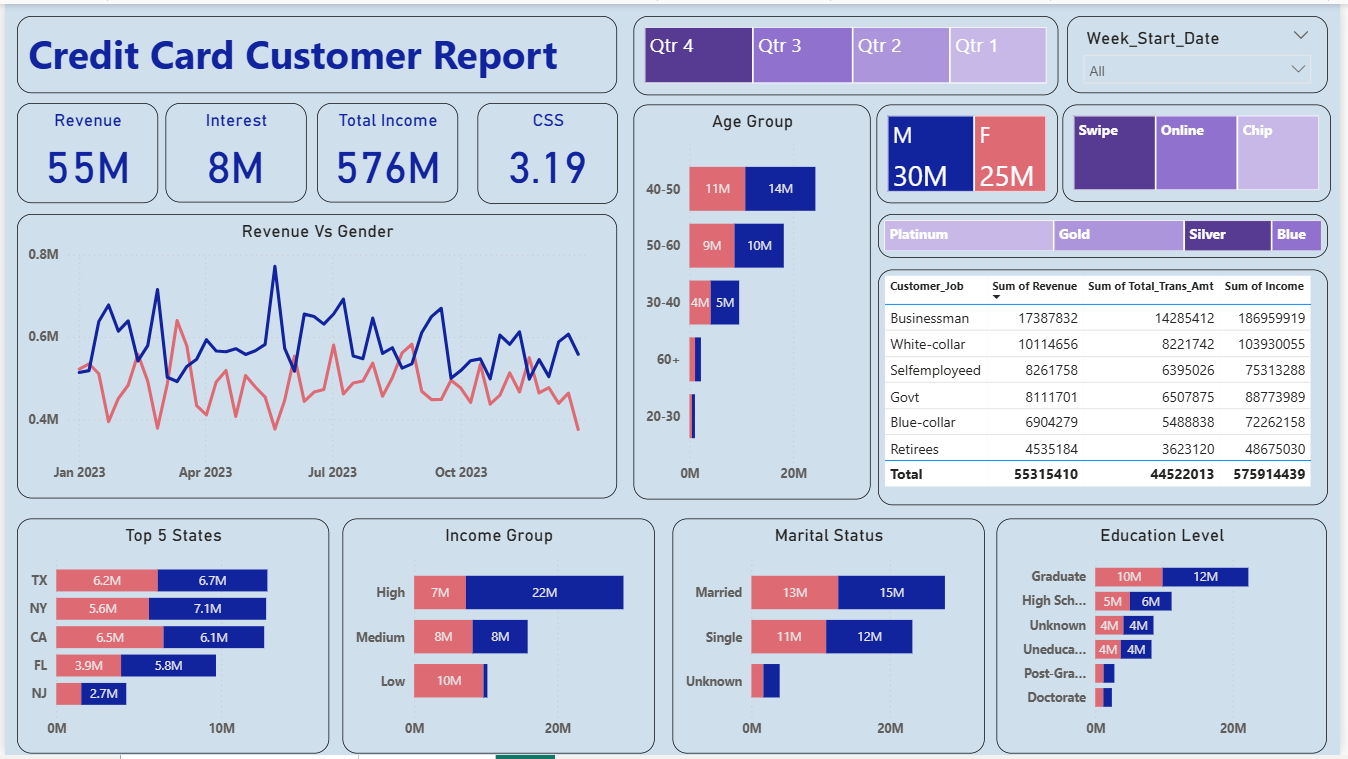

This screenshot's page, from the dashboard's own definition file:
{"tool":"powerbi","page":{"name":"customer","canvas":[1280,720],"ordinal":1},"visuals":[{"type":"textbox","box":[12.1,12.1,575.4,74.2],"z":0},{"type":"card","title":"Revenue","fields":{"Values":["Sum(credit_card cc_detail.Revenue)"]},"box":[12.1,95.4,135,96],"z":1000},{"type":"card","title":"Interest","fields":{"Values":["Sum(credit_card cc_detail.Interest_Earned)"]},"box":[154.4,95.4,135,95.4],"z":2000},{"type":"card","title":"Total Income","fields":{"Values":["Sum(credit_card cust_detail.Income)"]},"box":[299.8,95.4,135,95.4],"z":3000},{"type":"card","title":"CSS","fields":{"Values":["Avg(credit_card cust_detail.Cust_Satisfaction_Score)"]},"box":[452.7,95.4,134.8,96.9],"z":4000},{"type":"treemap","fields":{"Group":["credit_card cc_detail.Week_Start_Date.Variation.Date Hierarchy.Quarter"],"Values":["Avg(credit_card cc_detail.Client_Num)"]},"box":[602.7,12.1,407.3,75.7],"z":5000},{"type":"slicer","fields":{"Values":["credit_card cc_detail.Week_Start_Date"]},"box":[1017.5,12.1,249.8,74.2],"z":6000},{"type":"treemap","fields":{"Group":["credit_card cust_detail.Gender"],"Values":["Sum(credit_card cc_detail.Revenue)"]},"box":[835.8,96.9,174.1,122.7],"z":7000},{"type":"lineChart","title":"Revenue Vs Gender","fields":{"Y":["Sum(credit_card cc_detail.Revenue)"],"Series":["credit_card cust_detail.Gender"],"Category":["credit_card cc_detail.Week_Start_Date.Variation.Date Hierarchy.Year","credit_card cc_detail.Week_Start_Date.Variation.Date Hierarchy.Month","credit_card cc_detail.Week_Start_Date.Variation.Date Hierarchy.Day"]},"box":[12.1,201.4,575.4,272.6],"z":8000},{"type":"tableEx","fields":{"Values":["credit_card cust_detail.Customer_Job","Sum(credit_card cc_detail.Revenue)","Sum(credit_card cc_detail.Total_Trans_Amt)","Sum(credit_card cust_detail.Income)"]},"box":[835.8,234.7,431.5,242.3],"z":9000},{"type":"barChart","title":"Top 5  States","fields":{"Category":["credit_card cust_detail.State_cd"],"Y":["Sum(credit_card cc_detail.Revenue)"],"Series":["credit_card cust_detail.Gender"]},"box":[12.1,493.6,299,225.6],"z":10000},{"type":"barChart","title":"Income Group","fields":{"Category":["credit_card cust_detail.IncomeGroup"],"Y":["Sum(credit_card cc_detail.Revenue)"],"Series":["credit_card cust_detail.Gender"]},"box":[324,493.6,299,225.6],"z":11000},{"type":"barChart","title":"Marital Status","fields":{"Category":["credit_card cust_detail.Marital_Status"],"Y":["Sum(credit_card cc_detail.Revenue)"],"Series":["credit_card cust_detail.Gender"]},"box":[640.5,493.6,299,225.6],"z":12000},{"type":"barChart","title":"Education Level","fields":{"Category":["credit_card cust_detail.Education_Level"],"Y":["Sum(credit_card cc_detail.Revenue)"],"Series":["credit_card cust_detail.Gender"]},"box":[950.9,493.6,316.5,225.6],"z":13000},{"type":"barChart","title":"Age Group","fields":{"Category":["credit_card cust_detail.AgeGroup"],"Y":["Sum(credit_card cc_detail.Revenue)"],"Series":["credit_card cust_detail.Gender"]},"box":[602.7,96.9,227.1,378.6],"z":14000},{"type":"treemap","fields":{"Group":["credit_card cc_detail.Card_Category"],"Values":["Avg(credit_card cc_detail.Revenue)"]},"box":[1017.5,96.9,249.8,62.1],"z":15000},{"type":"treemap","fields":{"Group":["credit_card cc_detail.Use_Chip"],"Values":["Avg(credit_card cc_detail.Client_Num)"]},"box":[1014.5,165,257.4,54.5],"z":16000}]}

Visuals, with their boxes in screenshot pixels (x1, y1, x2, y2), scaled from the page's 1280x720 canvas onto the 1348x759 screenshot:
textbox: {"x1": 13, "y1": 13, "x2": 619, "y2": 91}
"Revenue" card: {"x1": 13, "y1": 101, "x2": 155, "y2": 202}
"Interest" card: {"x1": 163, "y1": 101, "x2": 305, "y2": 201}
"Total Income" card: {"x1": 316, "y1": 101, "x2": 458, "y2": 201}
"CSS" card: {"x1": 477, "y1": 101, "x2": 619, "y2": 203}
treemap - credit_card cc_detail.Week_Start_Date.Variation.Date Hierarchy.Quarter x Avg(credit_card cc_detail.Client_Num): {"x1": 635, "y1": 13, "x2": 1064, "y2": 93}
slicer - credit_card cc_detail.Week_Start_Date: {"x1": 1072, "y1": 13, "x2": 1335, "y2": 91}
treemap - credit_card cust_detail.Gender x Sum(credit_card cc_detail.Revenue): {"x1": 880, "y1": 102, "x2": 1064, "y2": 231}
"Revenue Vs Gender" lineChart: {"x1": 13, "y1": 212, "x2": 619, "y2": 500}
tableEx - credit_card cust_detail.Customer_Job x Sum(credit_card cc_detail.Revenue): {"x1": 880, "y1": 247, "x2": 1335, "y2": 503}
"Top 5  States" barChart: {"x1": 13, "y1": 520, "x2": 328, "y2": 758}
"Income Group" barChart: {"x1": 341, "y1": 520, "x2": 656, "y2": 758}
"Marital Status" barChart: {"x1": 675, "y1": 520, "x2": 989, "y2": 758}
"Education Level" barChart: {"x1": 1001, "y1": 520, "x2": 1335, "y2": 758}
"Age Group" barChart: {"x1": 635, "y1": 102, "x2": 874, "y2": 501}
treemap - credit_card cc_detail.Card_Category x Avg(credit_card cc_detail.Revenue): {"x1": 1072, "y1": 102, "x2": 1335, "y2": 168}
treemap - credit_card cc_detail.Use_Chip x Avg(credit_card cc_detail.Client_Num): {"x1": 1068, "y1": 174, "x2": 1339, "y2": 231}
